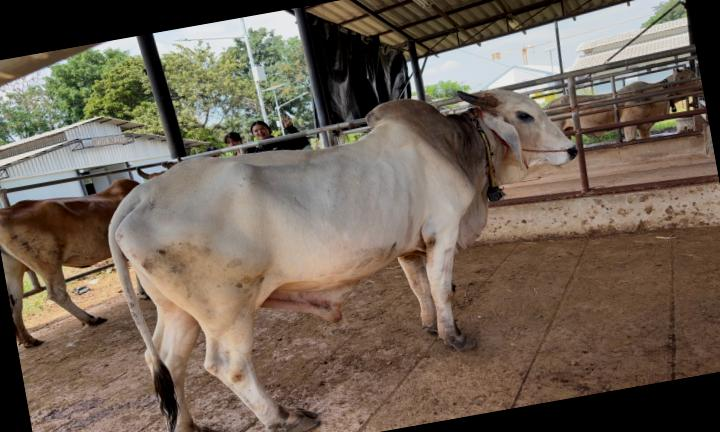Brahman: (109, 89, 576, 432)
